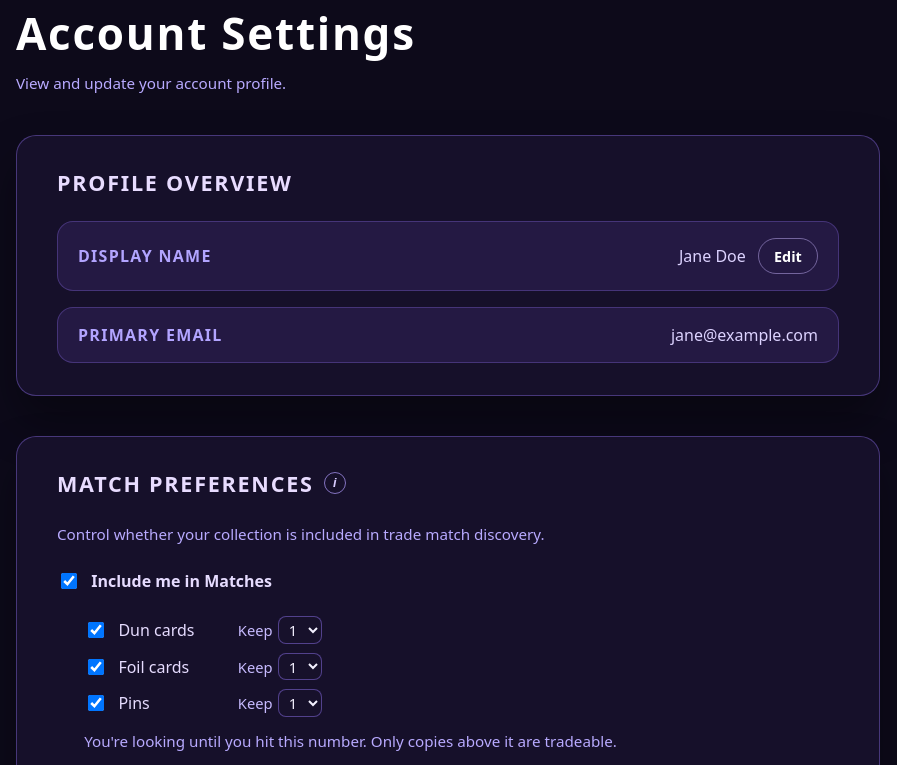
Test case: AccountPage › lets a signed-in user edit and save a new display name
Click the button "Edit" at (788,256), box [758,238,818,274]
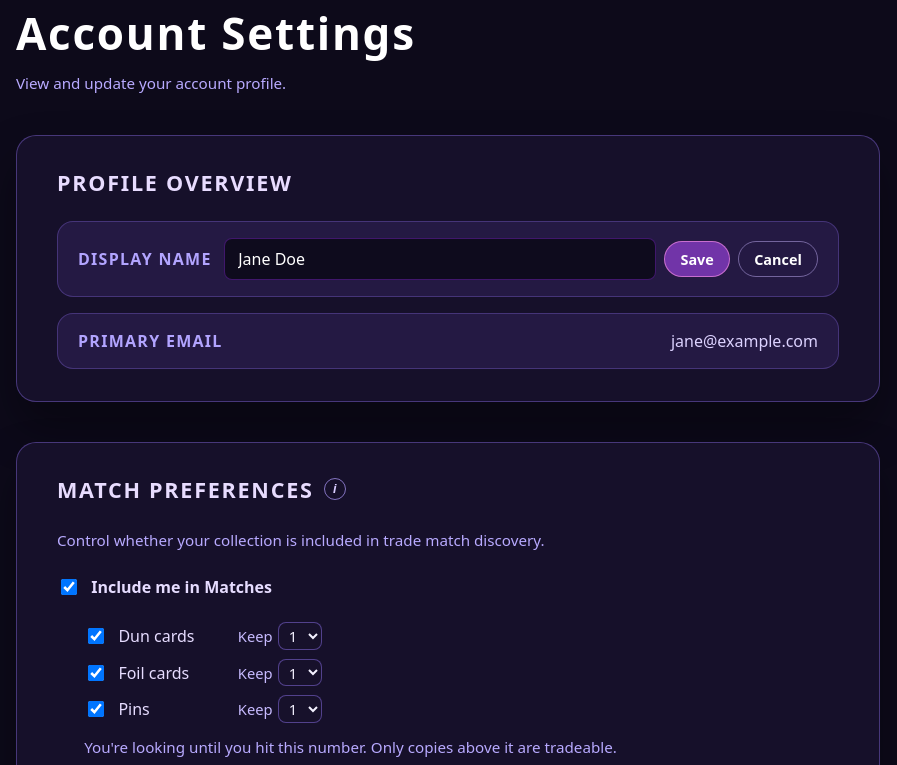
Replace the text in the field labelled "Display name" with "Jane Smith" at (440,259), box [224,238,656,280]
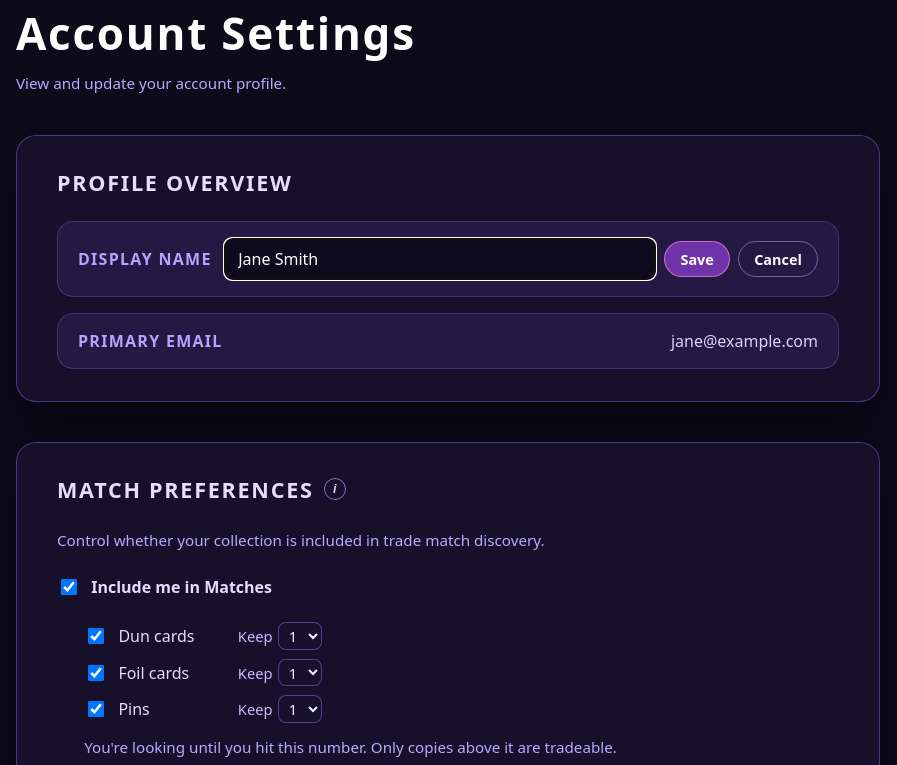
Click the button "Save" at (697,259), box [664,241,730,277]
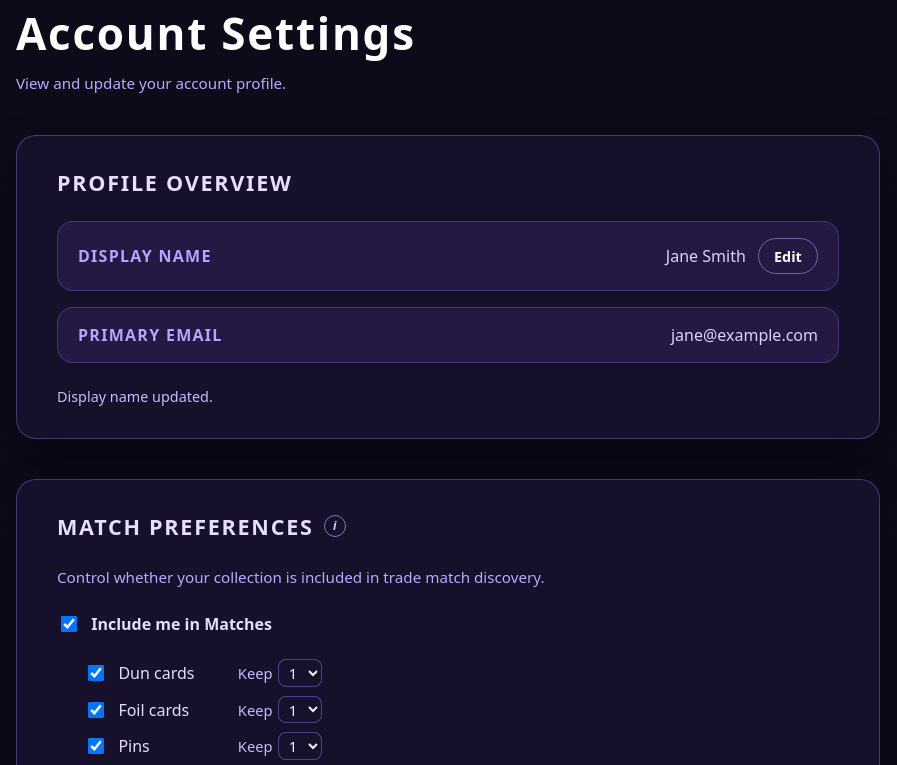
Result: the text "Jane Smith" is shown at [666,245,746,267]
Result: the text "Display name updated." is shown at [57,387,213,406]
Result: the button "Edit" is shown at [758,238,818,274]
